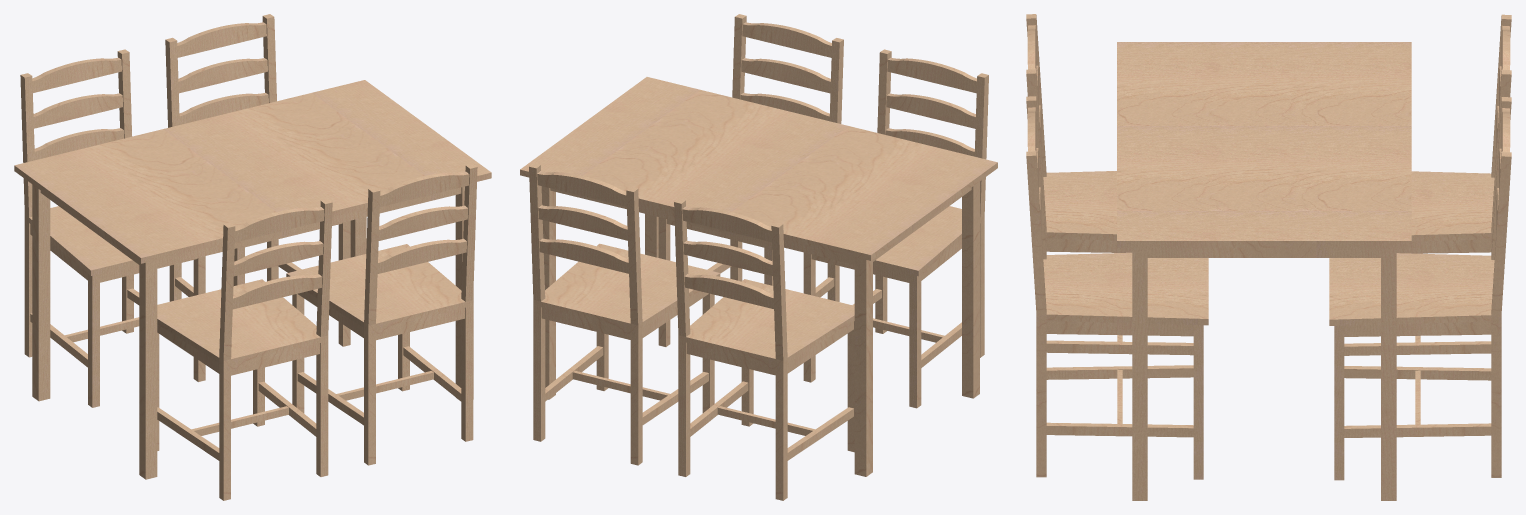
3 renders of one model, left to right at view 1: azimuth 30°, elevation 25°; view 2: azimuth 150°, elevation 25°; view 3: azimuth 270°, elevation 25°, orthographic. The views are drawn at different scales.
Visible parts, largest first — view 1: Mesh4 Ikea_Jokkmokk_Table1 Model, Mesh2 Jokkmokk_Chair_1_2 Model, Mesh3 Jokkmokk_Chair_1_3 Model, Mesh1 Jokkmokk_Chair_1_1 Model, Mesh5 Jokkmokk_Chair_1_4 Model; view 2: Mesh4 Ikea_Jokkmokk_Table1 Model, Mesh1 Jokkmokk_Chair_1_1 Model, Mesh5 Jokkmokk_Chair_1_4 Model, Mesh2 Jokkmokk_Chair_1_2 Model, Mesh3 Jokkmokk_Chair_1_3 Model; view 3: Mesh4 Ikea_Jokkmokk_Table1 Model, Mesh3 Jokkmokk_Chair_1_3 Model, Mesh5 Jokkmokk_Chair_1_4 Model, Mesh1 Jokkmokk_Chair_1_1 Model, Mesh2 Jokkmokk_Chair_1_2 Model.
Part boxes in pixels (x1=…): Mesh4 Ikea_Jokkmokk_Table1 Model: x1=14, y1=80, x2=491, y2=479; Mesh2 Jokkmokk_Chair_1_2 Model: x1=157, y1=199, x2=332, y2=500; Mesh3 Jokkmokk_Chair_1_3 Model: x1=286, y1=163, x2=477, y2=465; Mesh1 Jokkmokk_Chair_1_1 Model: x1=20, y1=49, x2=205, y2=407; Mesh5 Jokkmokk_Chair_1_4 Model: x1=165, y1=14, x2=350, y2=346; Mesh4 Ikea_Jokkmokk_Table1 Model: x1=520, y1=77, x2=997, y2=476; Mesh1 Jokkmokk_Chair_1_1 Model: x1=674, y1=198, x2=854, y2=500; Mesh5 Jokkmokk_Chair_1_4 Model: x1=529, y1=163, x2=720, y2=465; Mesh2 Jokkmokk_Chair_1_2 Model: x1=803, y1=49, x2=988, y2=408; Mesh3 Jokkmokk_Chair_1_3 Model: x1=658, y1=14, x2=843, y2=346; Mesh4 Ikea_Jokkmokk_Table1 Model: x1=1117, y1=42, x2=1411, y2=500; Mesh3 Jokkmokk_Chair_1_3 Model: x1=1026, y1=96, x2=1208, y2=479; Mesh5 Jokkmokk_Chair_1_4 Model: x1=1329, y1=97, x2=1511, y2=480; Mesh1 Jokkmokk_Chair_1_1 Model: x1=1344, y1=14, x2=1511, y2=355; Mesh2 Jokkmokk_Chair_1_2 Model: x1=1026, y1=14, x2=1193, y2=355.
Bounding box in the file's own units: 46.44 × 35 × 47.87.
